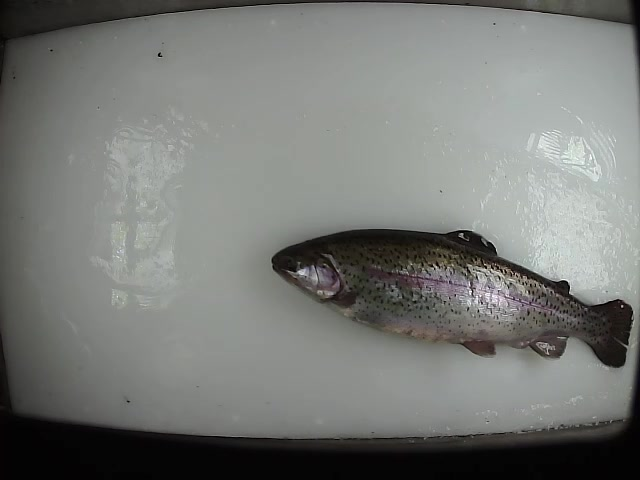fish: (266, 222, 637, 371)
